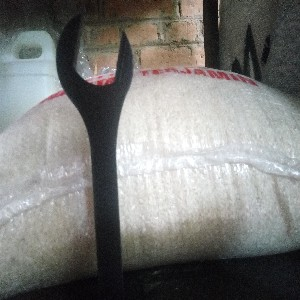spanner: (54, 11, 135, 300)
